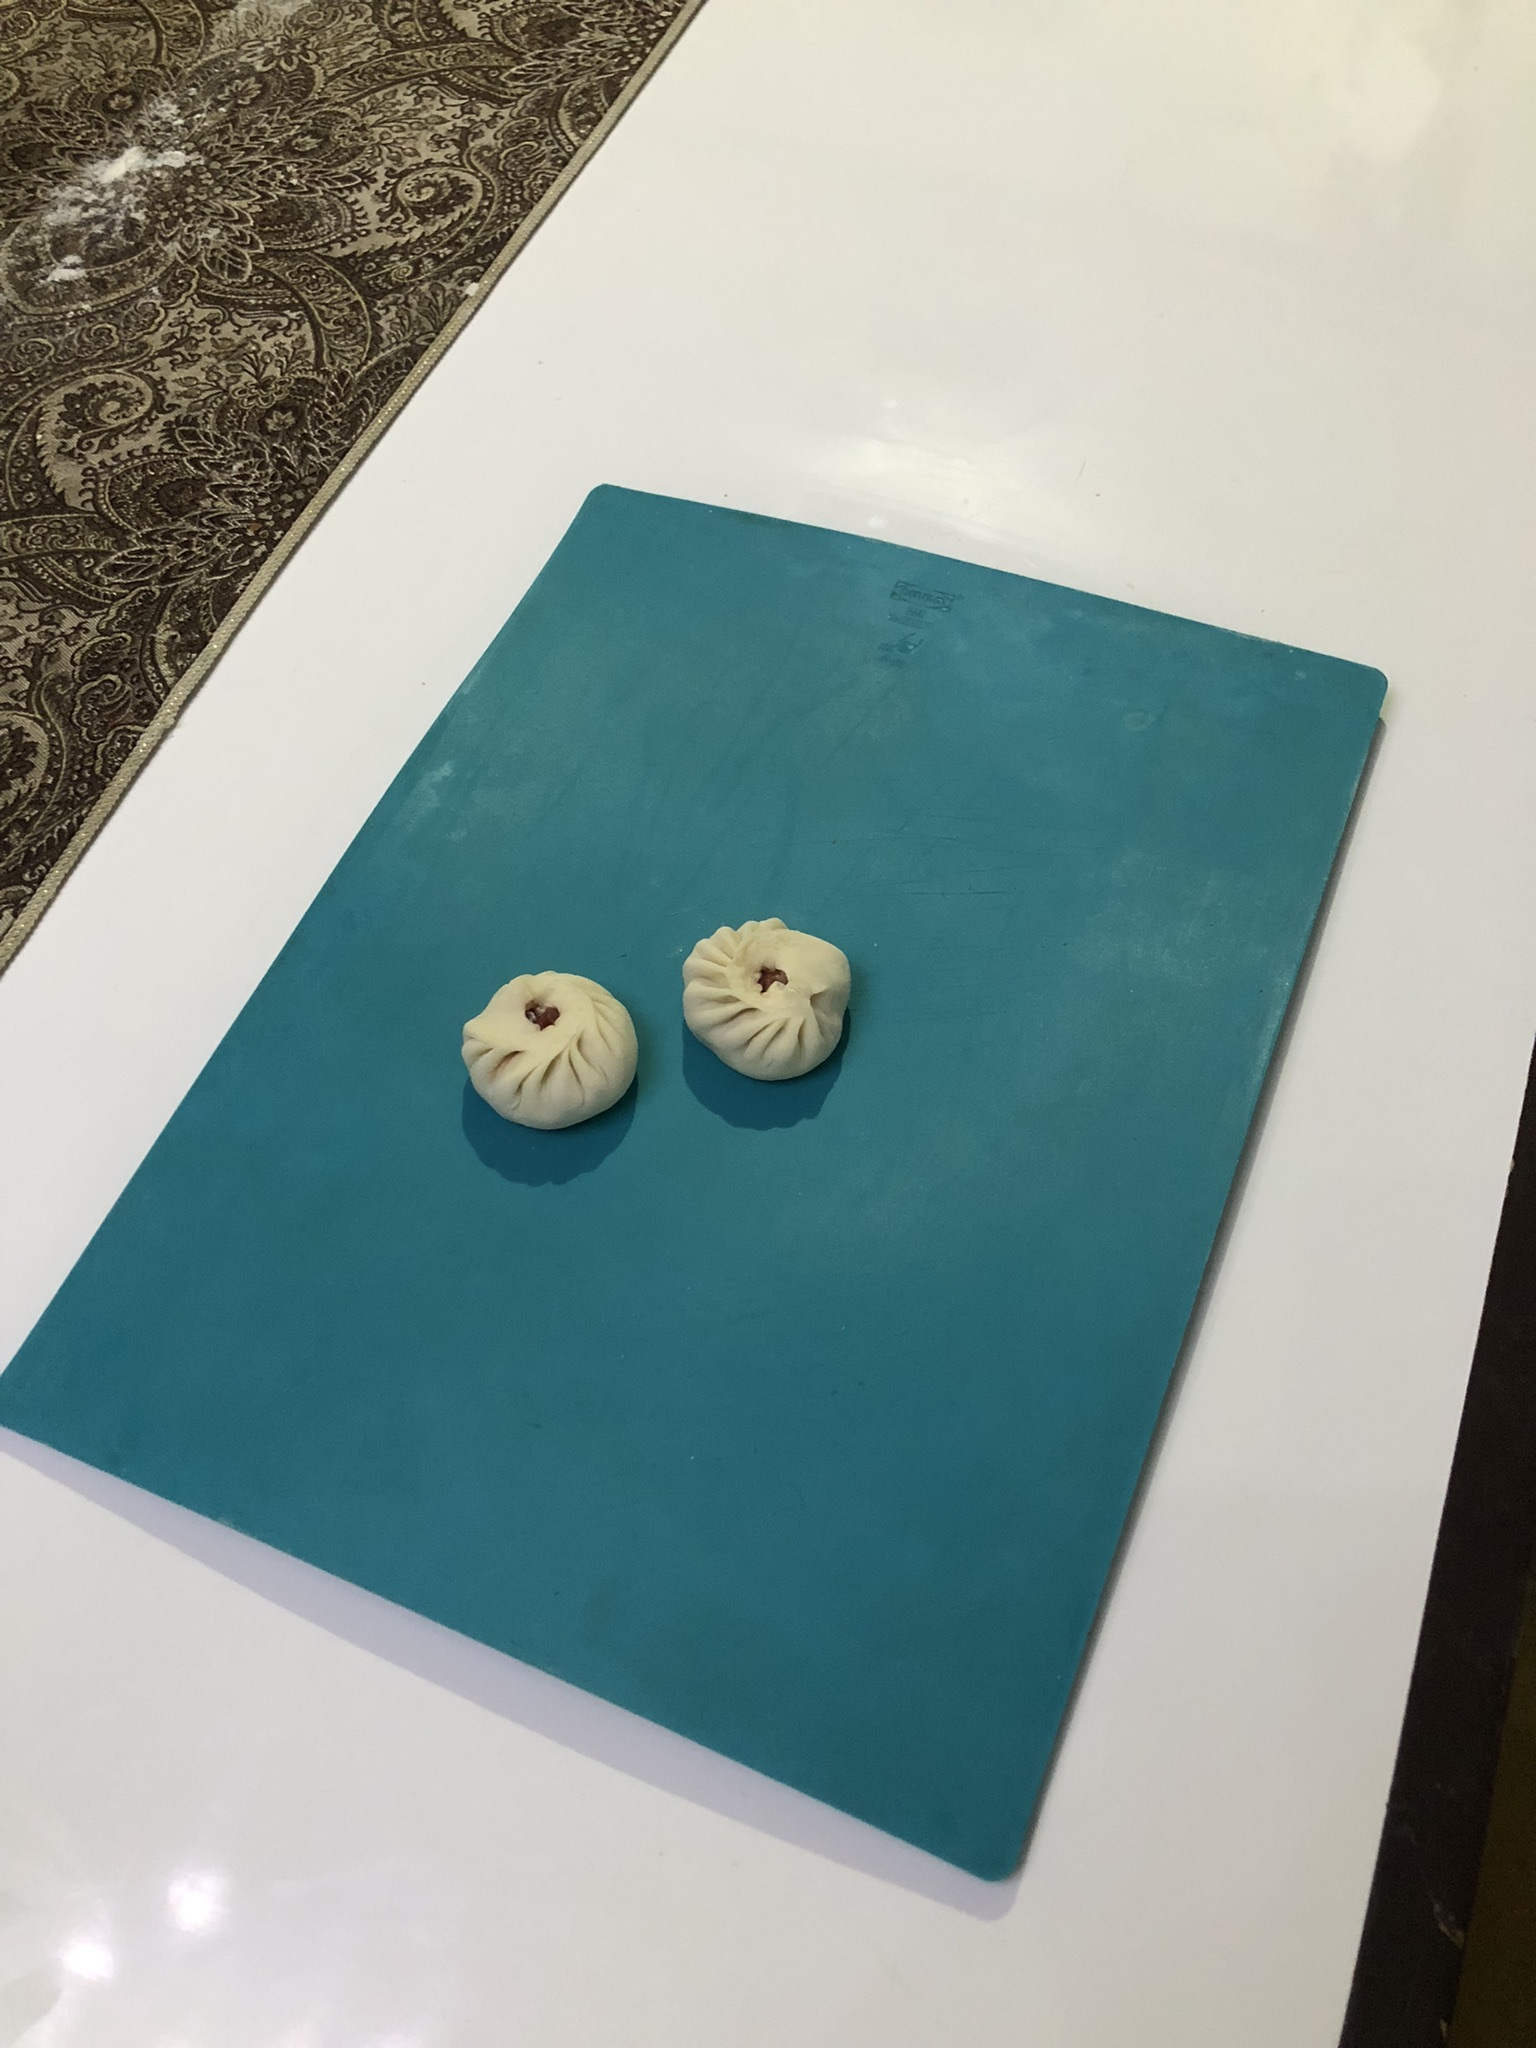buuz: (449, 964, 649, 1147), (674, 913, 871, 1089)
